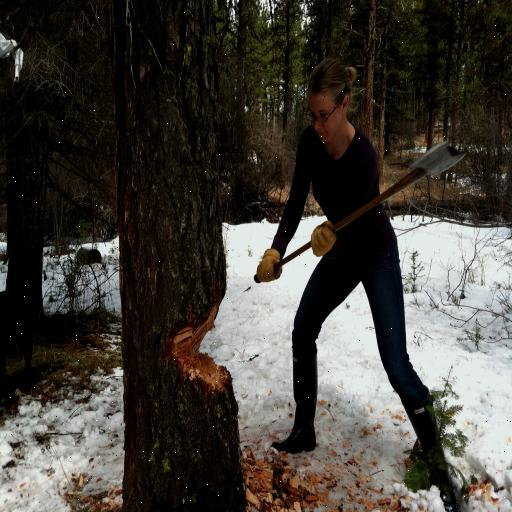Axe: (254, 134, 470, 285)
